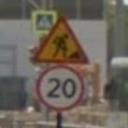speed_limit_20: (36, 64, 88, 113)
